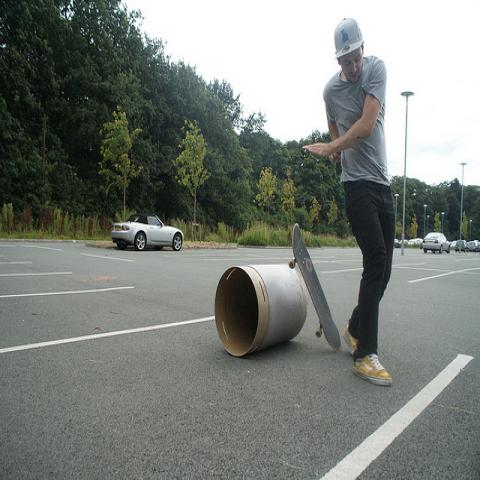car: (111, 212, 185, 253), (420, 231, 452, 254), (455, 239, 470, 252), (469, 241, 479, 254), (451, 240, 457, 248), (394, 238, 398, 246), (409, 239, 414, 245), (398, 240, 402, 247)
